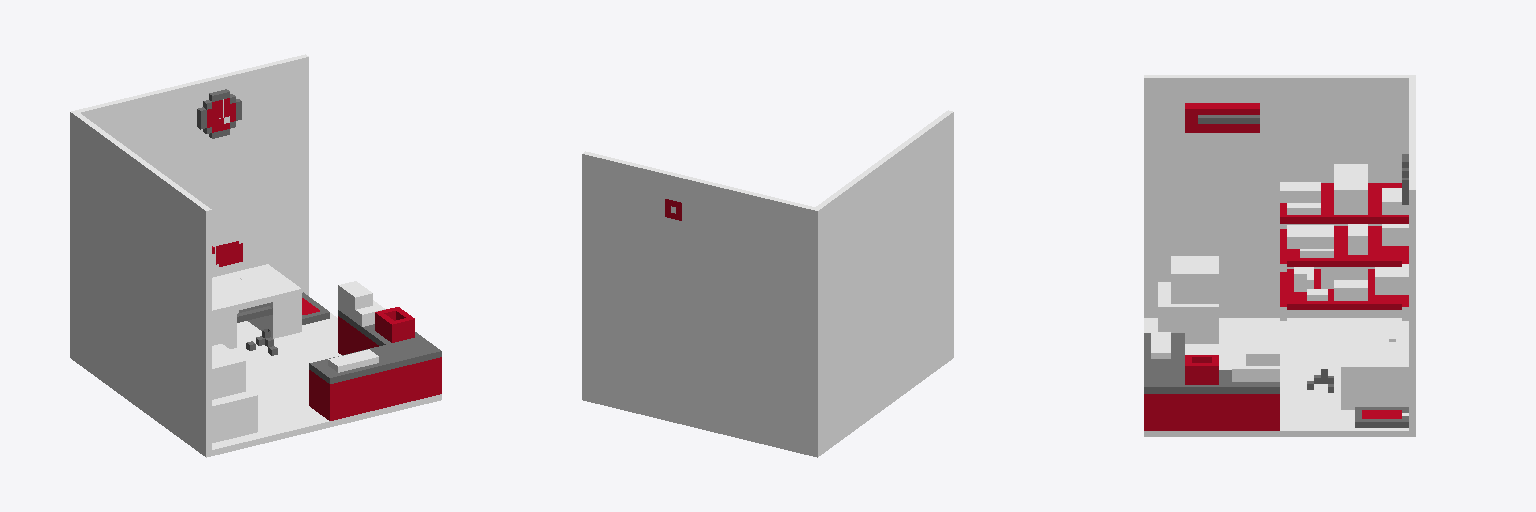
The picture shows the model from 3 angles: view 1: azimuth 30°, elevation 25°; view 2: azimuth 150°, elevation 25°; view 3: azimuth 270°, elevation 25°; orthographic projection.
Parts seen in each view (by area): view 1: object 1; view 2: object 1; view 3: object 1.
Boxes of the visible parts, <box> form: object 1: <box>70,54,441,457</box>; object 1: <box>582,110,953,457</box>; object 1: <box>1144,75,1415,436</box>.
Bounding box in the file's own units: 4 × 4 × 4.
Materials: 1 (1 with a texture image).